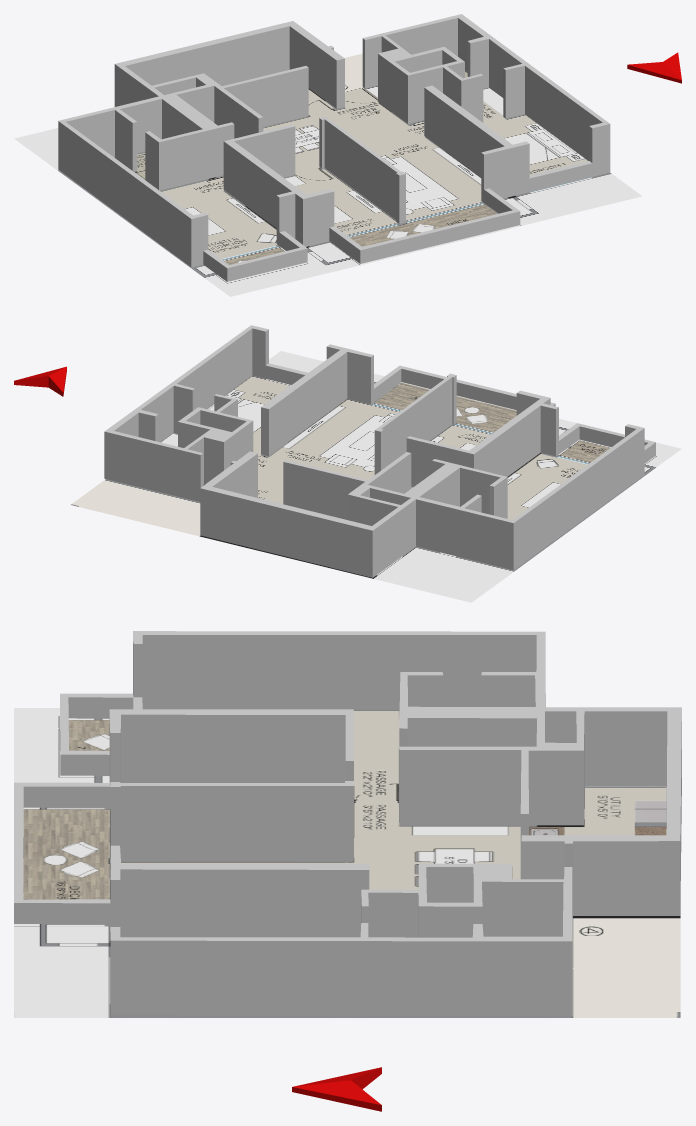
File: cutout_map.glb
The picture shows the model from 3 angles, top to bottom: view 1: azimuth 30°, elevation 25°; view 2: azimuth 150°, elevation 25°; view 3: azimuth 270°, elevation 25°; orthographic projection. The views are drawn at different scales.
Visible parts, largest first — view 1: Plane, Plane.001, pointer; view 2: Plane, Plane.001, pointer; view 3: Plane, Plane.001, pointer.
Boxes of the visible parts, x1,y1,x2,y2 form: Plane: (58,14,610,281); Plane.001: (14,53,642,296); pointer: (627,52,681,83); Plane: (104,325,655,577); Plane.001: (71,351,681,602); pointer: (14,366,66,396); Plane: (14,631,681,1016); Plane.001: (14,708,680,1017); pointer: (292,1067,381,1111).
Size of the model in its own units: 0.2034 by 0.017 by 0.1346.
3 materials, 1 textured.
